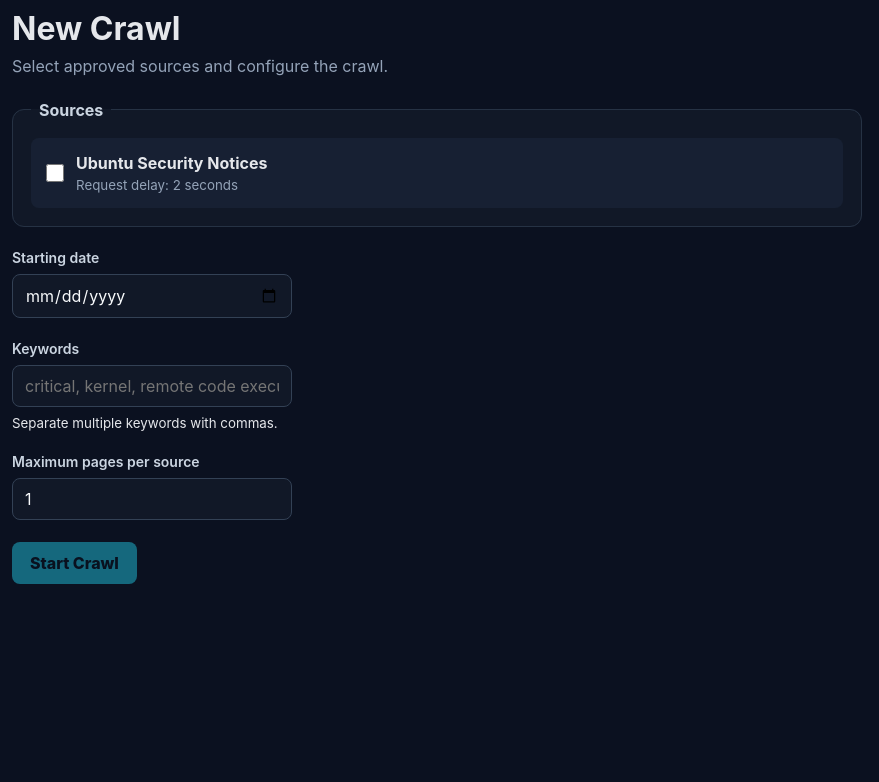
NewCrawlPage › selects a source and starts a crawl
Click the checkbox at (55, 172), box [46,164,64,182]
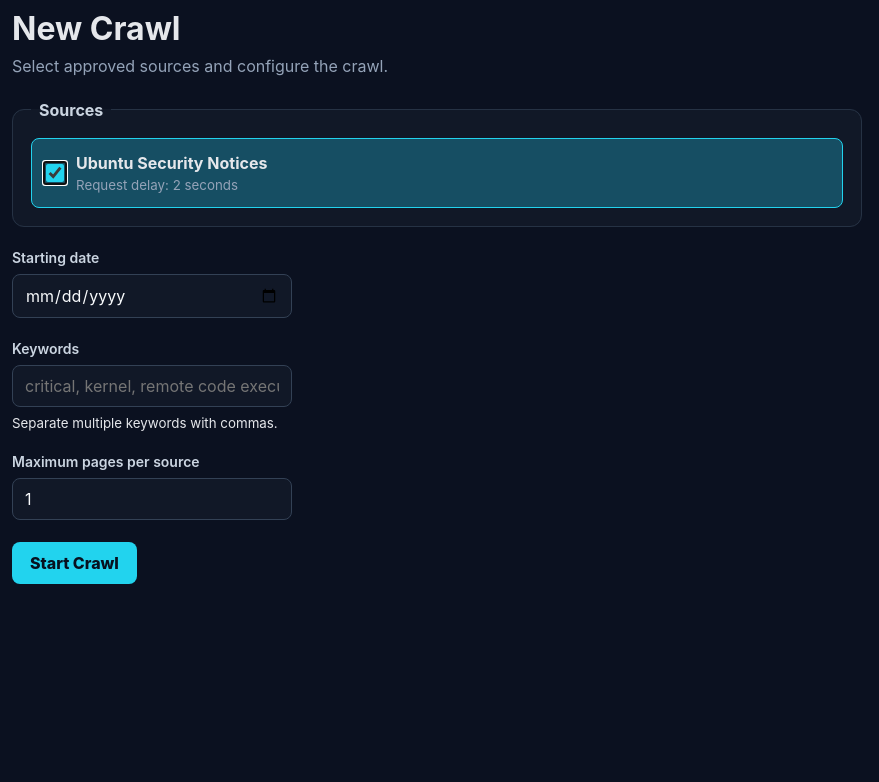
Click the button "Start Crawl" at (74, 562), box [12,542,137,584]
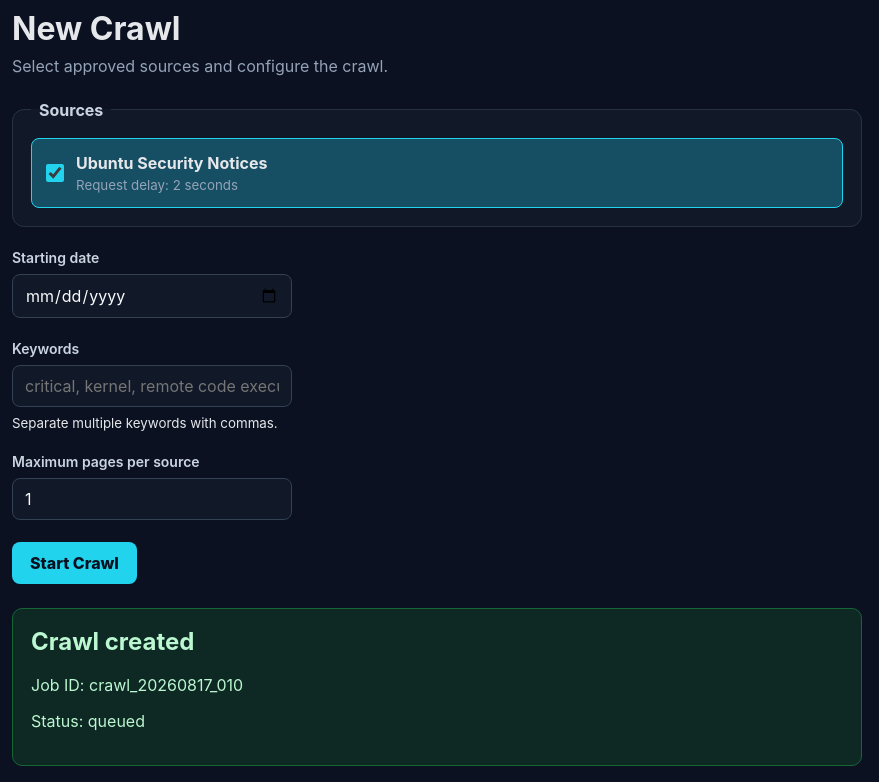
expect the heading "Crawl created" is shown: met, box [31,626,194,656]
expect the text "Job ID: crawl_20260817_010" is shown: met, box [31,676,243,696]
expect the text "Status: queued" is shown: met, box [31,712,145,732]
